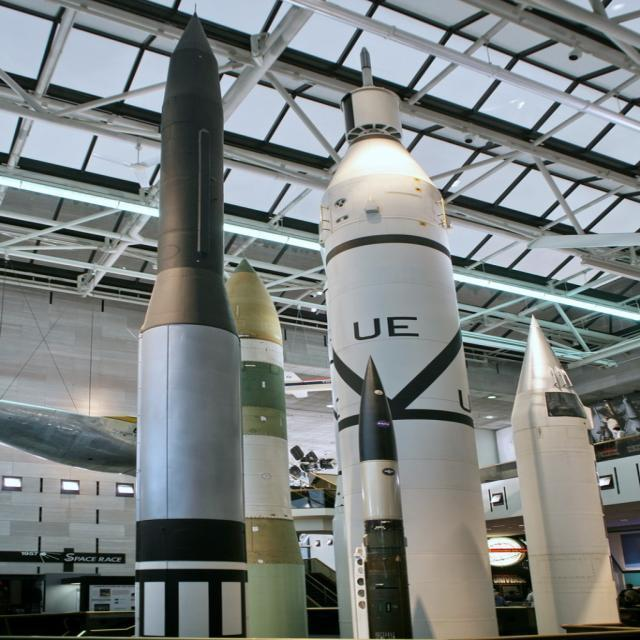missile: (302, 40, 512, 640), (137, 0, 249, 640), (487, 313, 640, 633), (225, 245, 317, 640), (353, 354, 421, 639)
